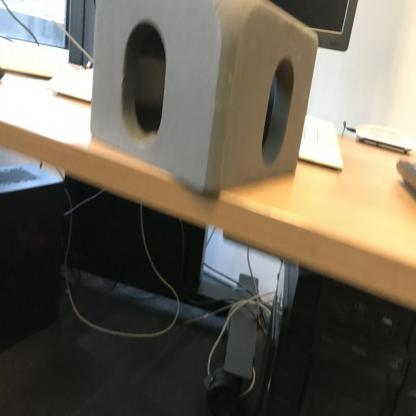CornerCasting: (86, 0, 322, 209)
